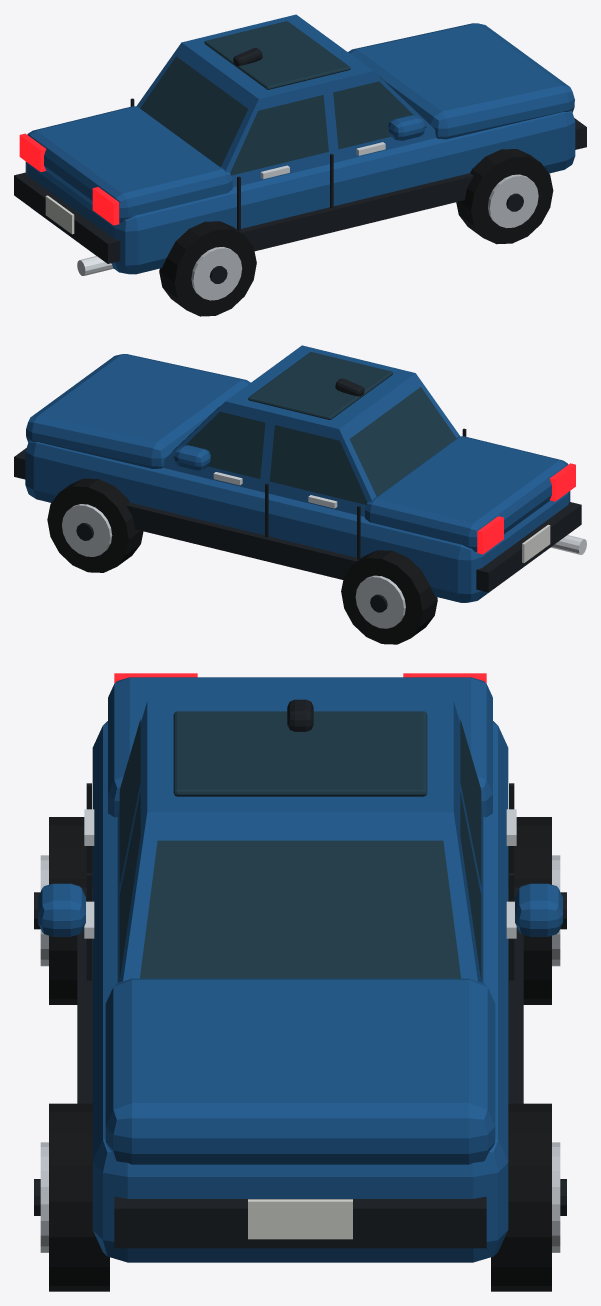
The model's file is Stage8.glb.
The picture shows the model from 3 angles, top to bottom: view 1: azimuth 30°, elevation 25°; view 2: azimuth 150°, elevation 25°; view 3: azimuth 270°, elevation 25°; orthographic projection. The views are drawn at different scales.
Visible parts, largest first — view 1: LowerBody.007, Hood.007, Trunk.007, CabinShell.007, SideWindows.005, RearWindow.006, RockerPanels.007, PanoramicRoof, Tire_-1.55_-1.008, Tire_1.55_-1.007, Bumpers.006, Rim_-1.55_-1.008 (+7 smaller); view 2: LowerBody.007, Hood.007, Trunk.007, CabinShell.007, SideWindows.005, RearWindow.006, RockerPanels.007, PanoramicRoof, Tire_-1.55_1.008, Tire_1.55_1.008, Bumpers.006, Rim_-1.55_1.008 (+7 smaller); view 3: Hood.007, Windshield.007, LowerBody.007, CabinShell.007, PanoramicRoof, Bumpers.006, Trunk.007, Tire_1.55_-1.007, Tire_1.55_1.008, SideWindows.005, RockerPanels.007, Tire_-1.55_-1.008 (+10 smaller).
Part boxes in pixels (<box>): LowerBody.007: <box>25,111,575,274</box>; Hood.007: <box>348,23,574,139</box>; Trunk.007: <box>27,106,232,222</box>; CabinShell.007: <box>136,14,436,187</box>; SideWindows.005: <box>230,81,426,175</box>; RearWindow.006: <box>140,56,248,167</box>; RockerPanels.007: <box>239,173,473,251</box>; PanoramicRoof: <box>204,21,350,89</box>; Tire_-1.55_-1.008: <box>159,221,256,316</box>; Tire_1.55_-1.007: <box>456,149,553,244</box>; Bumpers.006: <box>14,118,586,263</box>; Rim_-1.55_-1.008: <box>191,247,242,300</box>; LowerBody.007: <box>25,441,570,602</box>; Hood.007: <box>26,354,250,468</box>; Trunk.007: <box>365,436,568,551</box>; CabinShell.007: <box>163,345,460,516</box>; SideWindows.005: <box>173,411,367,504</box>; RearWindow.006: <box>349,387,456,496</box>; RockerPanels.007: <box>126,502,358,579</box>; PanoramicRoof: <box>248,352,392,419</box>; Tire_-1.55_1.008: <box>341,550,437,644</box>; Tire_1.55_1.008: <box>47,478,143,572</box>; Bumpers.006: <box>14,448,581,592</box>; Rim_-1.55_1.008: <box>355,575,405,628</box>; Hood.007: <box>105,978,495,1164</box>; Windshield.007: <box>140,840,460,978</box>; LowerBody.007: <box>92,721,508,1262</box>; CabinShell.007: <box>117,701,483,982</box>; PanoramicRoof: <box>173,711,427,796</box>; Bumpers.006: <box>114,1196,486,1248</box>; Trunk.007: <box>108,677,492,817</box>; Tire_1.55_-1.007: <box>49,1103,109,1291</box>; Tire_1.55_1.008: <box>491,1103,551,1291</box>; SideWindows.005: <box>119,719,481,979</box>; RockerPanels.007: <box>77,887,523,1103</box>; Tire_-1.55_-1.008: <box>49,817,92,1004</box>.
Size of the model in its own units: 5.18 by 1.95 by 2.44.
